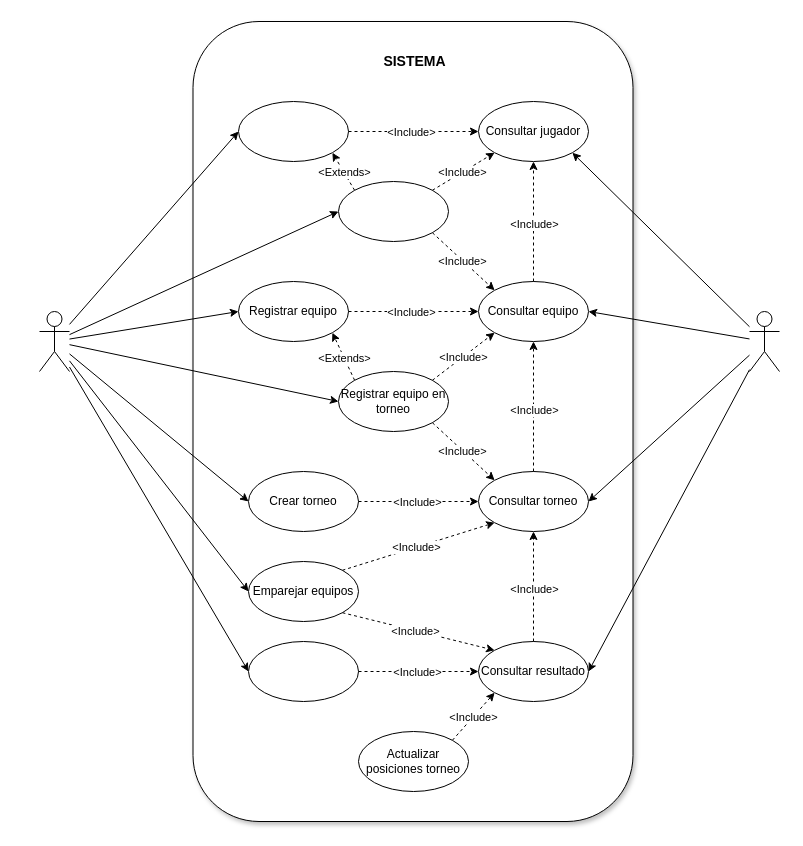
The diagram is 803 pixels wide and 846 high, and some of its shapes have lost their labels. Here are the shapes that lost their labels. From the top down, the centre of each, then its label:
At point (293, 131): "Registrar jugadores".
At point (393, 211): "Registrar jugador en equipo".
At point (54, 341): "Administrador".
At point (764, 341): "Jugador".
At point (303, 671): "Registrar resultado".
